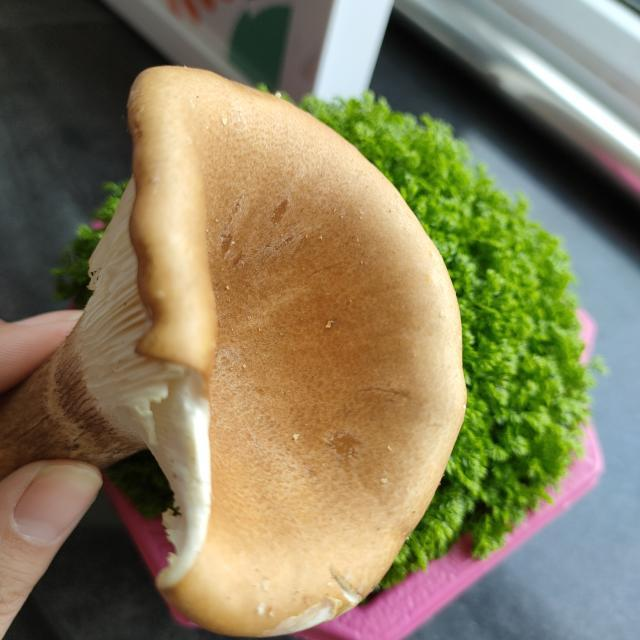Clitocybe maxima: (0, 64, 465, 640)
